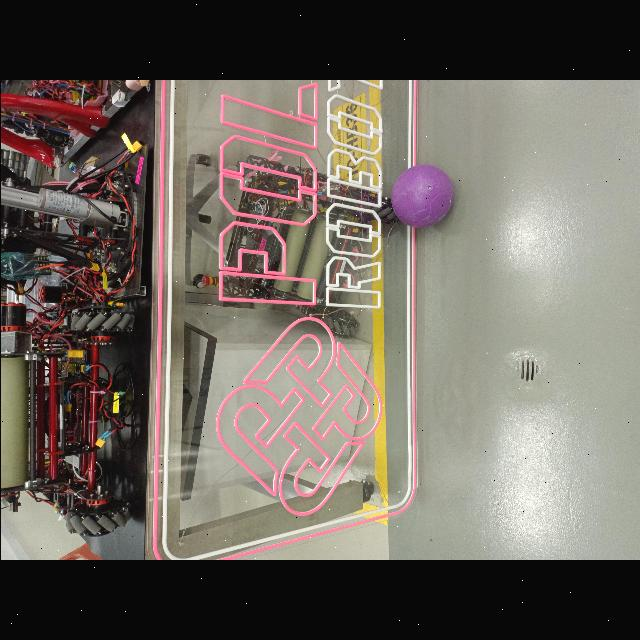P: (390, 165, 452, 228)
